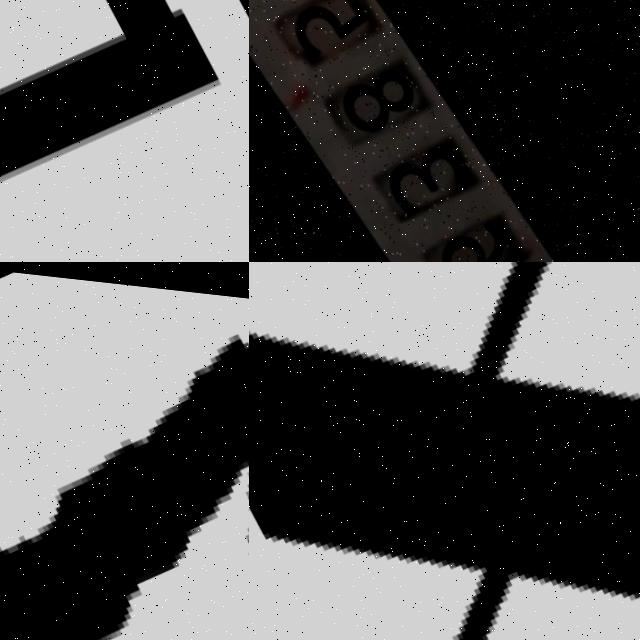3: (359, 105, 495, 242)
5: (266, 0, 399, 88)
6: (415, 183, 540, 262)
8: (315, 29, 446, 163)
R: (0, 0, 241, 262)
X: (249, 262, 640, 640)
